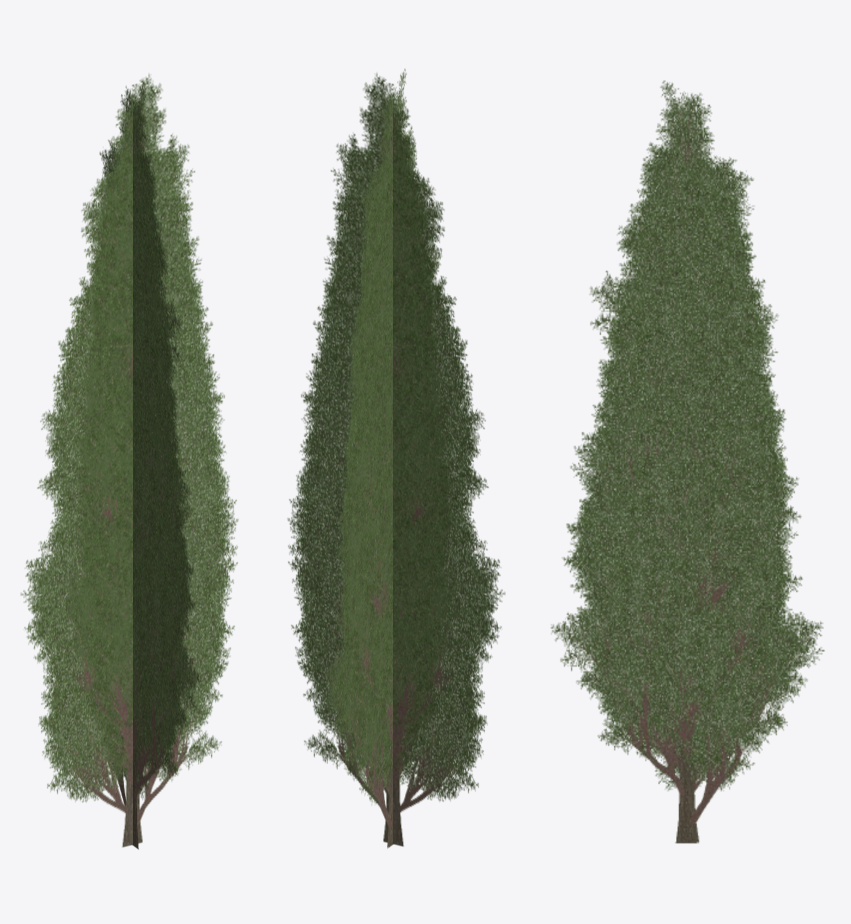
The model's file is CupressusLeylandii.glb.
3 views of the same model, side by side, from view 1: azimuth 30°, elevation 25°; view 2: azimuth 150°, elevation 25°; view 3: azimuth 270°, elevation 25° (orthographic).
Parts seen in each view (by area): view 1: mesh__mat_billboard_5; view 2: mesh__mat_billboard_5; view 3: mesh__mat_billboard_5.
Boxes of the visible parts, x1,y1,x2,y2 form: mesh__mat_billboard_5: (20, 74, 238, 849); mesh__mat_billboard_5: (287, 69, 505, 848); mesh__mat_billboard_5: (551, 80, 824, 843).
Size of the model in its own units: 2.3 by 7.37 by 2.53.
1 material, 1 textured.
